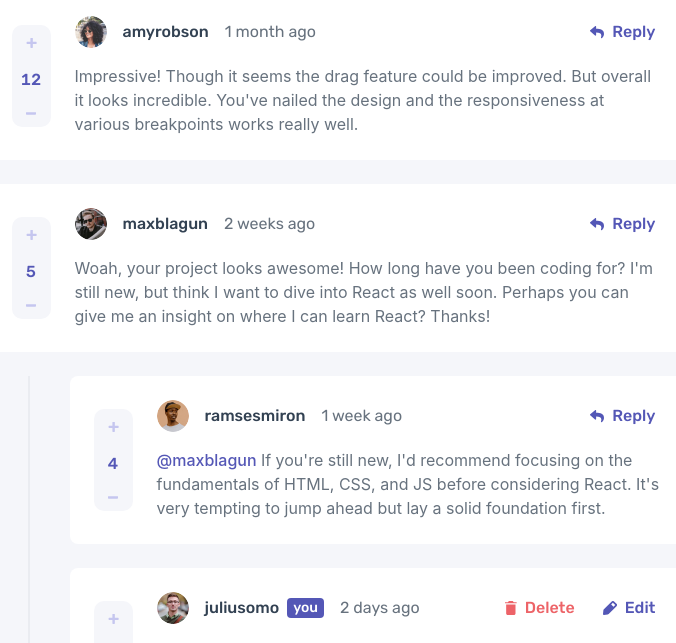
Test: App › upvotes a comment
Step 1. Click the button named "Upvote" next to "amyrobson" → (31, 42), box [20, 33, 42, 52]
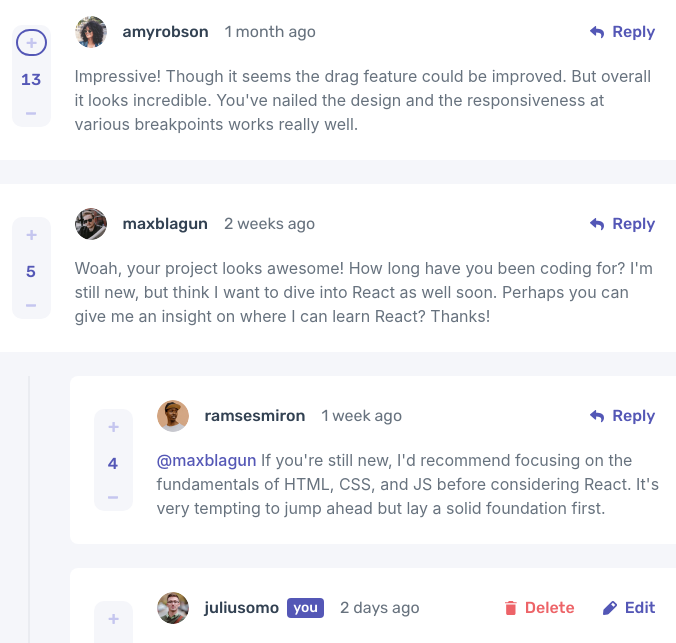
Now the text "13" is shown, box [20, 68, 42, 92]
